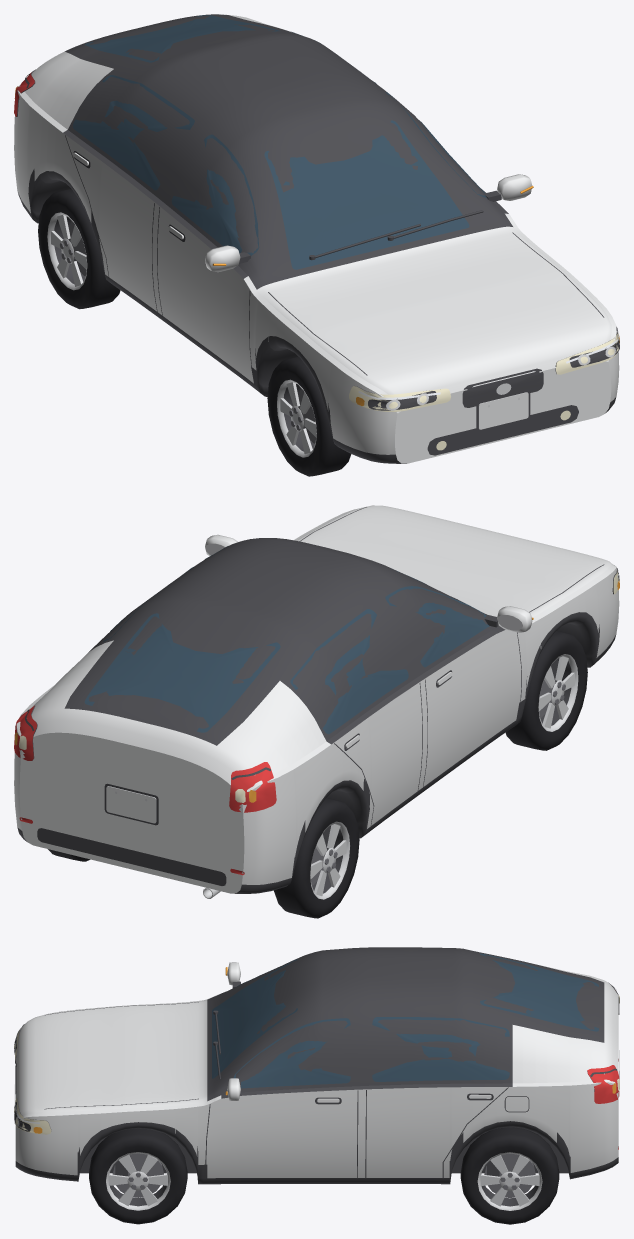
The model's file is 356_close.fbx.
3 views of the same model, one above another, from view 1: azimuth 30°, elevation 25°; view 2: azimuth 150°, elevation 25°; view 3: azimuth 270°, elevation 25° (orthographic). The views are drawn at different scales.
Visible parts, largest first — view 1: 356_close; view 2: 356_close; view 3: 356_close.
Part boxes in pixels (box(x1,y1,x2,y2)): 356_close: box(14, 14, 619, 476); 356_close: box(14, 505, 619, 918); 356_close: box(14, 947, 619, 1224).
Size of the model in its own units: 2.15 by 1.62 by 4.3.
